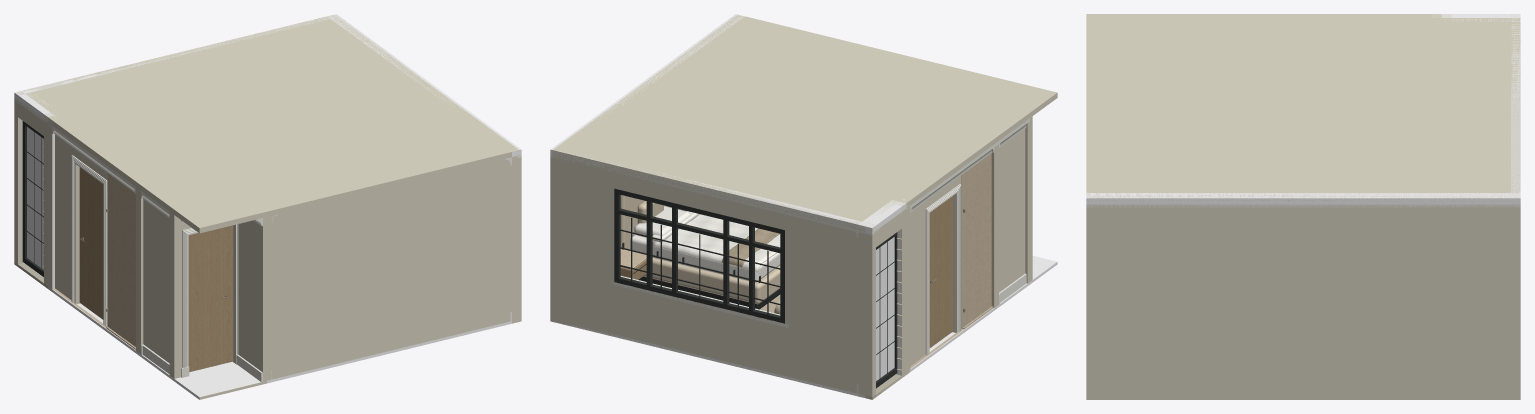
3 renders of one model, left to right at view 1: azimuth 30°, elevation 25°; view 2: azimuth 150°, elevation 25°; view 3: azimuth 270°, elevation 25°, orthographic. The views are drawn at different scales.
Parts seen in each view (by area): view 1: Principal bedroom | ceiling.001, Principal bedroom 2 | end.001, Guest 01 | entrance door leaf.002, Guestbath 01 | shower east wall.001, Principal en suite east | end.001, Guest 01 | ensuite door leaf.002, Principal hall return | end.001, Principal en suite east | pier 0.001, Landing continuous ceiling.001, Rear bay detail | Principal clear glass.001, Airing cupboard hall | east jamb.001, Landing | floor.001 (+15 smaller); view 2: Principal bedroom | ceiling.001, Proposal revision | Principal rear | pier 0.001, Proposal revision | Principal rear | end.001, Proposal revision | Principal rear | below 0.001, Guestbath 01 | shower east wall.001, Principal en suite east | end.001, Guest 01 | ensuite door leaf.002, Proposal revision | Principal rear | lintel 0.001, Principal balcony door | end.001, Guest 01 | draped cotton duvet.002, Principal en suite east | pier 0.001, Rear bay detail | Principal clear glass.001 (+36 smaller); view 3: Proposal revision | First east | end.001, Principal bedroom | ceiling.001, Roof join | First east masonry head.001, Landing continuous ceiling.001, Roof join | East soffit.001, Proposal revision | Exterior brick floor band First east.001, Proposal | Joined roof lining 037 | Retained original hip 2., Principal en suite | ceiling.001, Bedroom 2 | ceiling.001, Proposal | Joined roof lining 052 | Retained original hip 3., Proposal | Joined roof lining 049 | Retained original hip 3., Roof join | Principal rear masonry head.001.
Part boxes in pixels (left/top/right/bottom): Principal bedroom | ceiling.001: left=22, top=15, right=517, bottom=210; Principal bedroom 2 | end.001: left=267, top=159, right=511, bottom=380; Guest 01 | entrance door leaf.002: left=188, top=225, right=233, bottom=371; Guestbath 01 | shower east wall.001: left=108, top=173, right=135, bottom=346; Principal en suite east | end.001: left=103, top=170, right=169, bottom=363; Guest 01 | ensuite door leaf.002: left=79, top=167, right=103, bottom=319; Principal hall return | end.001: left=238, top=220, right=260, bottom=370; Principal en suite east | pier 0.001: left=55, top=134, right=80, bottom=303; Landing continuous ceiling.001: left=138, top=182, right=266, bottom=233; Rear bay detail | Principal clear glass.001: left=27, top=127, right=43, bottom=269; Airing cupboard hall | east jamb.001: left=169, top=212, right=181, bottom=378; Landing | floor.001: left=138, top=353, right=266, bottom=399; Principal bedroom | ceiling.001: left=552, top=16, right=1022, bottom=231; Proposal revision | Principal rear | pier 0.001: left=785, top=212, right=865, bottom=393; Proposal revision | Principal rear | end.001: left=552, top=155, right=614, bottom=333; Proposal revision | Principal rear | below 0.001: left=614, top=282, right=784, bottom=375; Guestbath 01 | shower east wall.001: left=961, top=153, right=991, bottom=328; Principal en suite east | end.001: left=952, top=128, right=1025, bottom=332; Guest 01 | ensuite door leaf.002: left=929, top=196, right=952, bottom=347; Proposal revision | Principal rear | lintel 0.001: left=614, top=170, right=784, bottom=229; Principal balcony door | end.001: left=858, top=231, right=875, bottom=397; Guest 01 | draped cotton duvet.002: left=652, top=214, right=780, bottom=272; Principal en suite east | pier 0.001: left=910, top=199, right=928, bottom=365; Rear bay detail | Principal clear glass.001: left=876, top=237, right=894, bottom=380; Proposal revision | First east | end.001: left=1086, top=204, right=1520, bottom=396; Principal bedroom | ceiling.001: left=1090, top=18, right=1520, bottom=196; Roof join | First east masonry head.001: left=1086, top=193, right=1520, bottom=204; Landing continuous ceiling.001: left=1086, top=14, right=1229, bottom=52; Roof join | East soffit.001: left=1086, top=203, right=1520, bottom=207; Proposal revision | Exterior brick floor band First east.001: left=1086, top=397, right=1520, bottom=399; Proposal | Joined roof lining 037 | Retained original hip 2.: left=1143, top=195, right=1518, bottom=202; Principal en suite | ceiling.001: left=1229, top=14, right=1441, bottom=17; Bedroom 2 | ceiling.001: left=1086, top=52, right=1090, bottom=196; Proposal | Joined roof lining 052 | Retained original hip 3.: left=1511, top=74, right=1520, bottom=146; Proposal | Joined roof lining 049 | Retained original hip 3.: left=1511, top=146, right=1520, bottom=198; Roof join | Principal rear masonry head.001: left=1512, top=18, right=1520, bottom=196.
Size of the model in its own units: 5.04 by 2.57 by 5.02.
29 materials, 6 textured.
